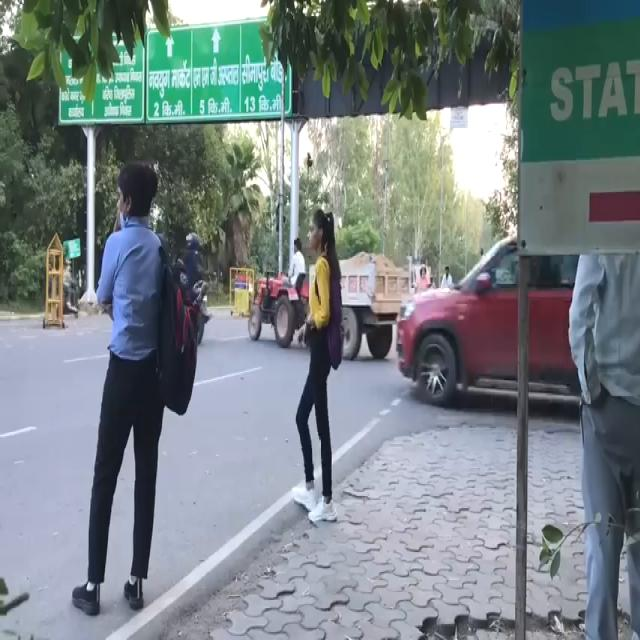TRUCK: (248, 246, 386, 357)
